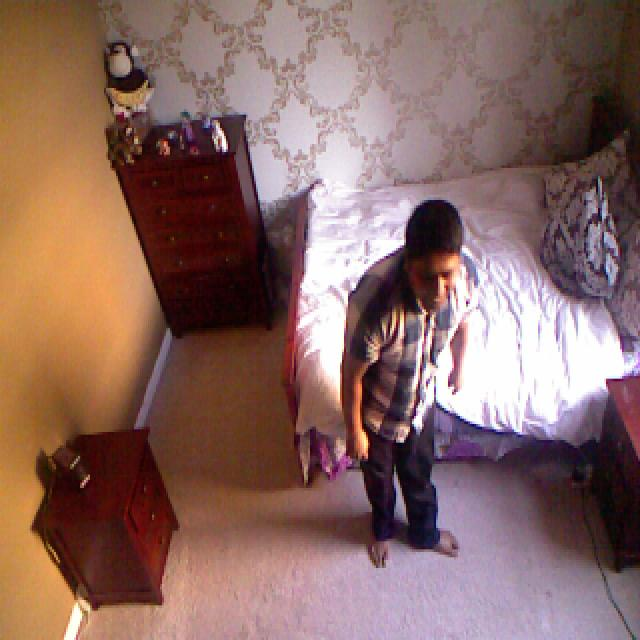standing: (339, 203, 480, 570)
